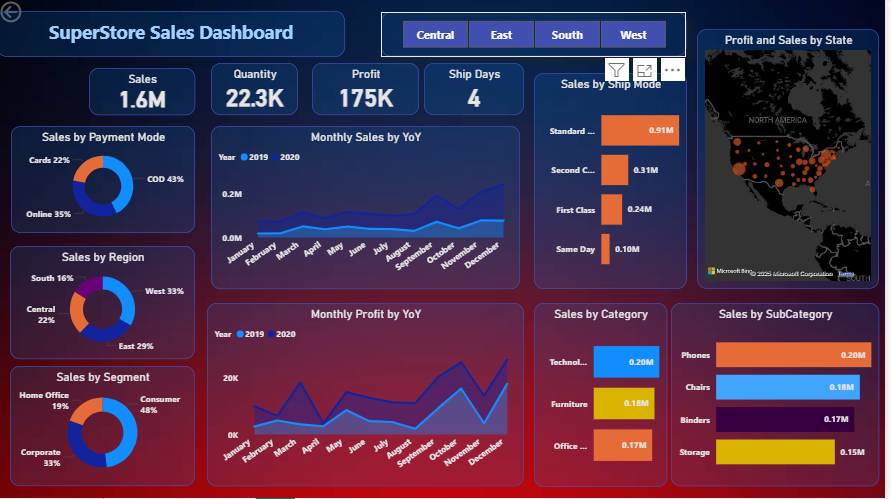

What the dashboard file says about the page in this screenshot:
{"tool":"powerbi","page":{"name":"Page 1","canvas":[1280,720],"ordinal":0},"visuals":[{"type":"clusteredBarChart","title":"Sales by SubCategory","fields":{"Category":["SuperStore_Sales_Dataset.Sub-Category"],"Y":["Sum(SuperStore_Sales_Dataset.Sales)"]},"box":[970.6,439.2,299.5,263.5],"z":0},{"type":"clusteredBarChart","title":"Sales by Ship Mode","fields":{"Y":["Sum(SuperStore_Sales_Dataset.Sales)"],"Category":["SuperStore_Sales_Dataset.Ship Mode"]},"box":[773.3,108,220.3,311],"z":1000},{"type":"stackedAreaChart","title":"Monthly Sales by YoY","fields":{"Y":["Sum(SuperStore_Sales_Dataset.Sales)"],"Category":["SuperStore_Sales_Dataset.Order Date.Variation.Date Hierarchy.Month","SuperStore_Sales_Dataset.Order Date.Variation.Date Hierarchy.Day"],"Series":["SuperStore_Sales_Dataset.Order Date.Variation.Date Hierarchy.Year"]},"box":[308.2,184.3,445,234.7],"z":2000},{"type":"actionButton","box":[0,0,100,40],"z":3000},{"type":"stackedAreaChart","title":"Monthly Profit by YoY","fields":{"Category":["SuperStore_Sales_Dataset.Order Date.Variation.Date Hierarchy.Month","SuperStore_Sales_Dataset.Order Date.Variation.Date Hierarchy.Day"],"Series":["SuperStore_Sales_Dataset.Order Date.Variation.Date Hierarchy.Year"],"Y":["Sum(SuperStore_Sales_Dataset.Profit)"]},"box":[302.4,439.2,456.5,263.5],"z":4000},{"type":"map","title":"Profit and Sales by State","fields":{"Category":["SuperStore_Sales_Dataset.State"],"Size":["Sum(SuperStore_Sales_Dataset.Sales)"]},"box":[1008,44.6,262.1,374.4],"z":5000},{"type":"clusteredBarChart","title":"Sales by Category","fields":{"Category":["SuperStore_Sales_Dataset.Category"],"Y":["Sum(SuperStore_Sales_Dataset.Sales)"]},"box":[773.3,439.2,191.5,265],"z":6000},{"type":"donutChart","title":" Sales by Segment","fields":{"Category":["SuperStore_Sales_Dataset.Segment"],"Y":["Sum(SuperStore_Sales_Dataset.Sales)"]},"box":[18.7,529.9,266.4,172.8],"z":7000},{"type":"donutChart","title":" Sales by Payment Mode","fields":{"Category":["SuperStore_Sales_Dataset.Payment Mode"],"Y":["Sum(SuperStore_Sales_Dataset.Sales)"]},"box":[20.2,184.3,265,154.1],"z":8000},{"type":"slicer","fields":{"Values":["SuperStore_Sales_Dataset.Region"]},"box":[552.9,20,440,64.3],"z":8001},{"type":"textbox","box":[0,18.7,501.1,66.2],"z":8002},{"type":"card","title":"Sales","fields":{"Values":["Sum(SuperStore_Sales_Dataset.Sales)"]},"box":[132.5,100.8,152.6,67.7],"z":8003},{"type":"card","title":"Quantity","fields":{"Values":["Sum(SuperStore_Sales_Dataset.Quantity)"]},"box":[308.2,93.6,125.3,74.9],"z":8004},{"type":"card","title":"Profit","fields":{"Values":["Sum(SuperStore_Sales_Dataset.Profit)"]},"box":[453.6,93.6,154.1,74.9],"z":8005},{"type":"card","title":"Ship Days","fields":{"Values":["Avg(SuperStore_Sales_Dataset.AvgDelivery)"]},"box":[614.9,93.6,144,74.9],"z":8006},{"type":"donutChart","title":" Sales by Region","fields":{"Category":["SuperStore_Sales_Dataset.Region"],"Y":["Sum(SuperStore_Sales_Dataset.Sales)"]},"box":[18.7,357.1,266.4,162.7],"z":8007}]}

Visuals, with their boxes in screenshot pixels (x1, y1, x2, y2), scaled from the page's 1280x720 canvas onto the 891x499 screenshot:
"Sales by SubCategory" clusteredBarChart: select_region(676, 304, 884, 487)
"Sales by Ship Mode" clusteredBarChart: select_region(538, 75, 692, 290)
"Monthly Sales by YoY" stackedAreaChart: select_region(215, 128, 524, 290)
actionButton: select_region(0, 0, 70, 28)
"Monthly Profit by YoY" stackedAreaChart: select_region(210, 304, 528, 487)
"Profit and Sales by State" map: select_region(702, 31, 884, 290)
"Sales by Category" clusteredBarChart: select_region(538, 304, 672, 488)
" Sales by Segment" donutChart: select_region(13, 367, 198, 487)
" Sales by Payment Mode" donutChart: select_region(14, 128, 199, 235)
slicer - SuperStore_Sales_Dataset.Region: select_region(385, 14, 691, 58)
textbox: select_region(0, 13, 349, 59)
"Sales" card: select_region(92, 70, 198, 117)
"Quantity" card: select_region(215, 65, 302, 117)
"Profit" card: select_region(316, 65, 423, 117)
"Ship Days" card: select_region(428, 65, 528, 117)
" Sales by Region" donutChart: select_region(13, 247, 198, 360)
